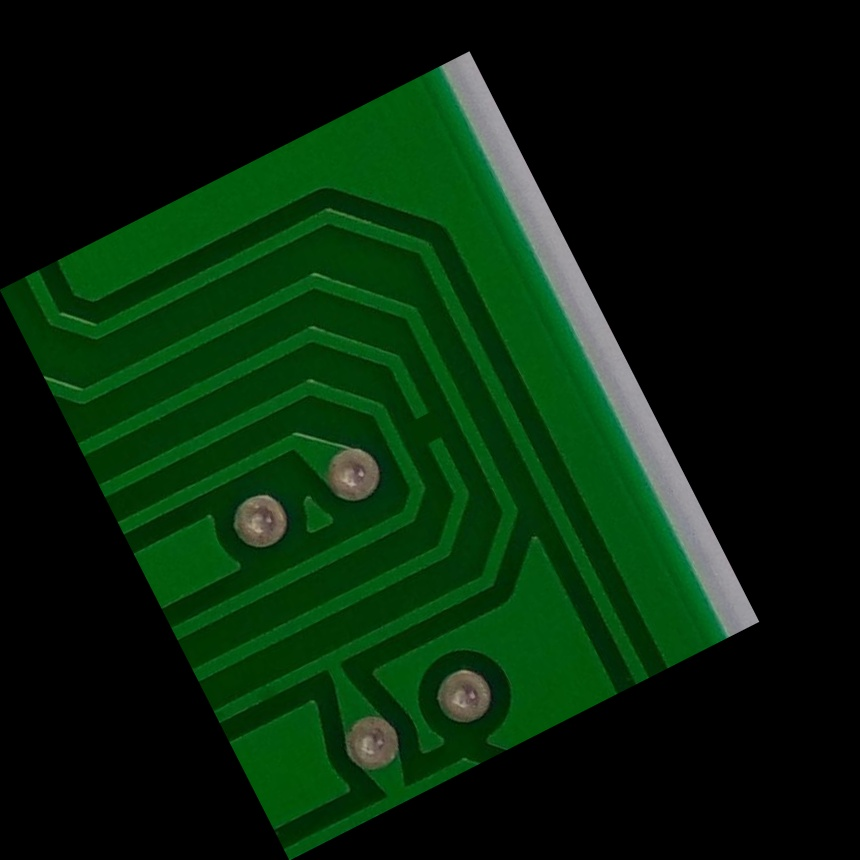open_circuit: (400, 394, 461, 467)
